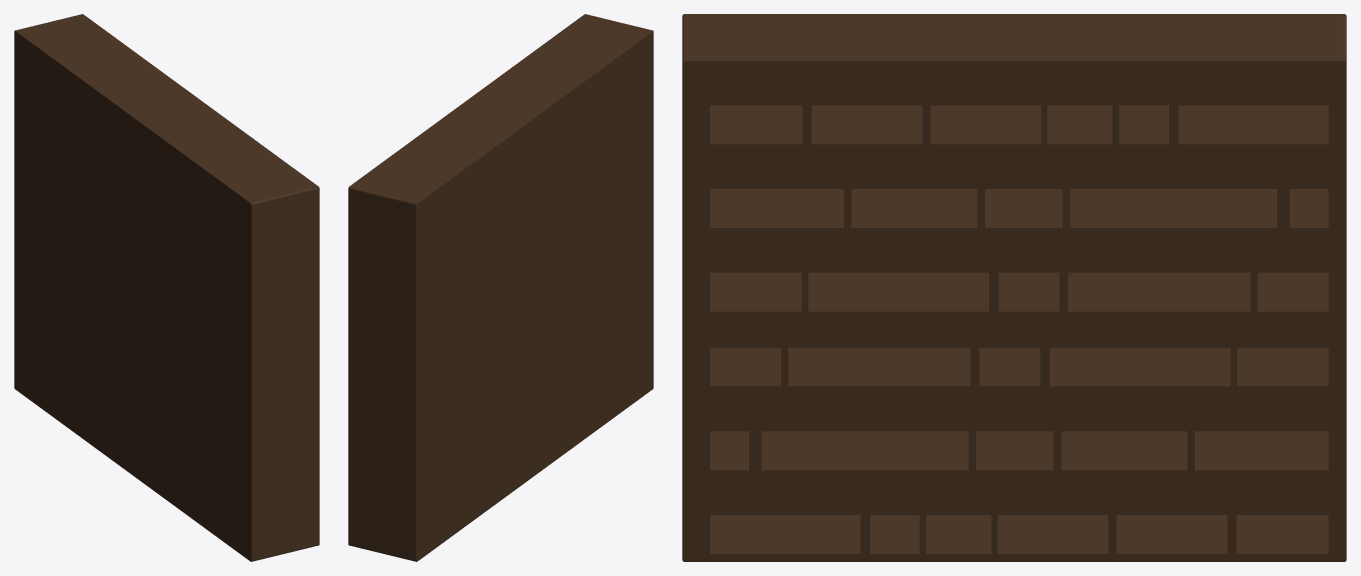
File: Bookshelf.fbx
3 renders of one model, left to right at view 1: azimuth 30°, elevation 25°; view 2: azimuth 150°, elevation 25°; view 3: azimuth 270°, elevation 25°, orthographic. The views are drawn at different scales.
Visible parts, largest first — view 1: bookshelf; view 2: bookshelf; view 3: bookshelf.
Part boxes in pixels (left/top/right/bottom): bookshelf: left=14, top=14, right=319, bottom=561; bookshelf: left=348, top=14, right=653, bottom=561; bookshelf: left=682, top=14, right=1346, bottom=561.
Bounding box in the file's own units: 30 × 150 × 180.
